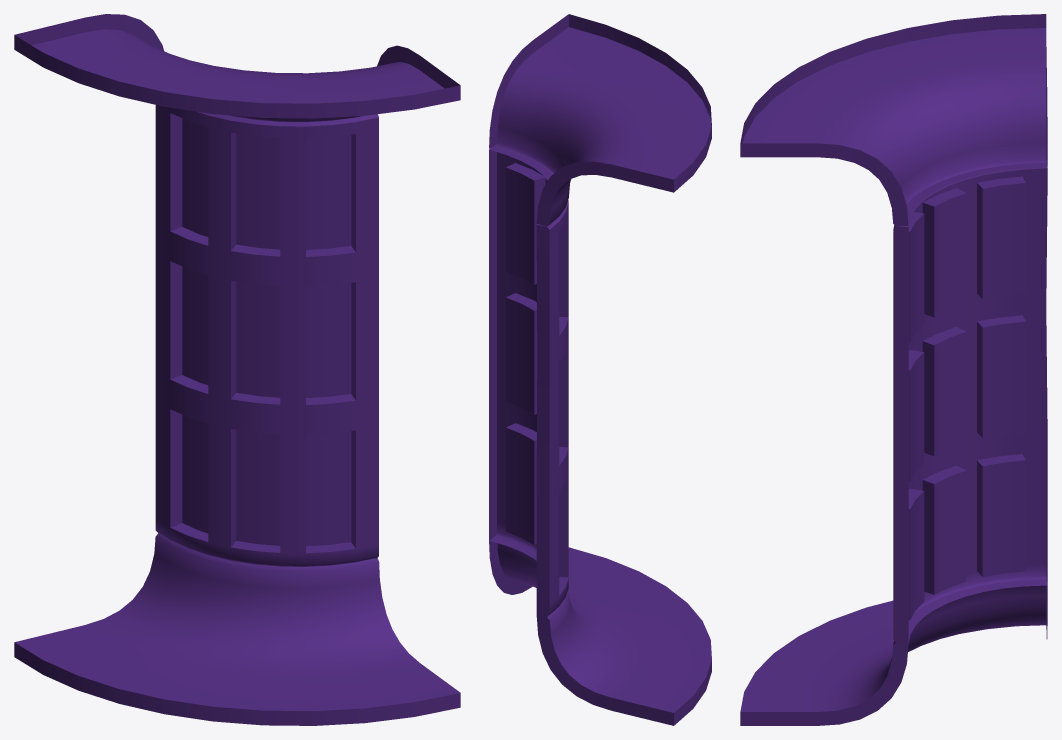
Rendered from Wall_C_4x2m_TurnOut.FBX.
3 views of the same model, side by side, from view 1: azimuth 30°, elevation 25°; view 2: azimuth 150°, elevation 25°; view 3: azimuth 270°, elevation 25° (orthographic). The views are drawn at different scales.
Parts seen in each view (by area): view 1: Wall_C_4x2m_TurnOut; view 2: Wall_C_4x2m_TurnOut; view 3: Wall_C_4x2m_TurnOut.
Boxes of the visible parts, <box> form: Wall_C_4x2m_TurnOut: <box>14,14,460,725</box>; Wall_C_4x2m_TurnOut: <box>489,14,711,725</box>; Wall_C_4x2m_TurnOut: <box>740,14,1047,725</box>.
Size of the model in its own units: 201 by 420 by 201.
